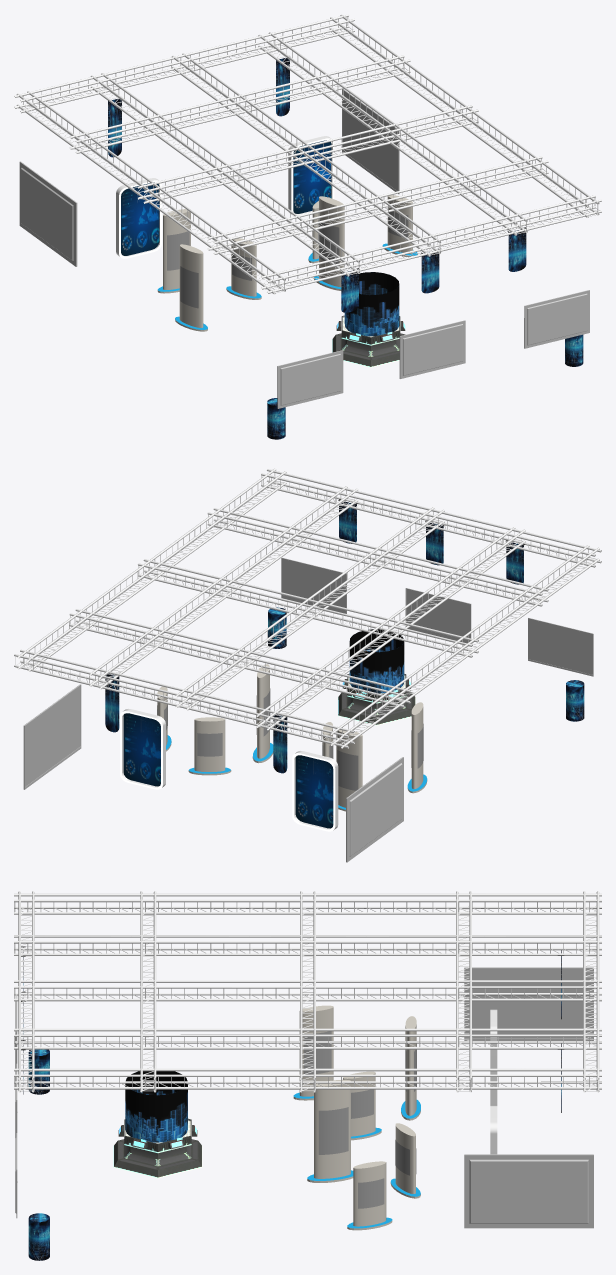
The model's file is Architectural.fbx.
The picture shows the model from 3 angles, top to bottom: view 1: azimuth 30°, elevation 25°; view 2: azimuth 150°, elevation 25°; view 3: azimuth 270°, elevation 25°; orthographic projection. The views are drawn at different scales.
Parts seen in each view (by area): view 1: Truss, Monitor05, BannerColum, Banner_Design, DisplayBanner, Hologram, Table; view 2: Truss, Monitor05, Banner_Design, BannerColum, DisplayBanner, Hologram, Table; view 3: Truss, Monitor05, BannerColum, Hologram, Table, DisplayBanner, Banner_Design.
Part boxes in pixels (x1,y1,x2,y2): Truss: (14, 14, 601, 294); Monitor05: (19, 89, 589, 408); BannerColum: (157, 195, 417, 331); Banner_Design: (116, 136, 334, 258); DisplayBanner: (108, 58, 583, 439); Hologram: (344, 272, 399, 336); Table: (332, 315, 405, 367); Truss: (14, 468, 601, 748); Monitor05: (23, 557, 593, 862); Banner_Design: (120, 709, 338, 831); BannerColum: (157, 664, 427, 811); DisplayBanner: (105, 499, 584, 773); Hologram: (349, 629, 404, 693); Table: (338, 673, 415, 725); Truss: (14, 891, 601, 1092); Monitor05: (15, 967, 593, 1228); BannerColum: (293, 1005, 420, 1230); Hologram: (125, 1071, 187, 1142); Table: (113, 1118, 202, 1178); DisplayBanner: (21, 946, 564, 1260); Banner_Design: (490, 1009, 497, 1154).
Size of the model in its own units: 1505 by 712 by 2006.
